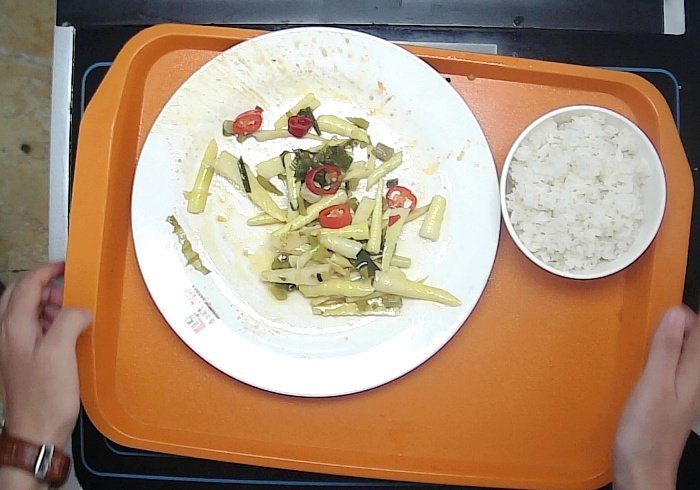ZNLD-Da_Yuan_Pan: (119, 23, 498, 398)
ZNLD-Fan_Wan: (497, 101, 671, 284)
